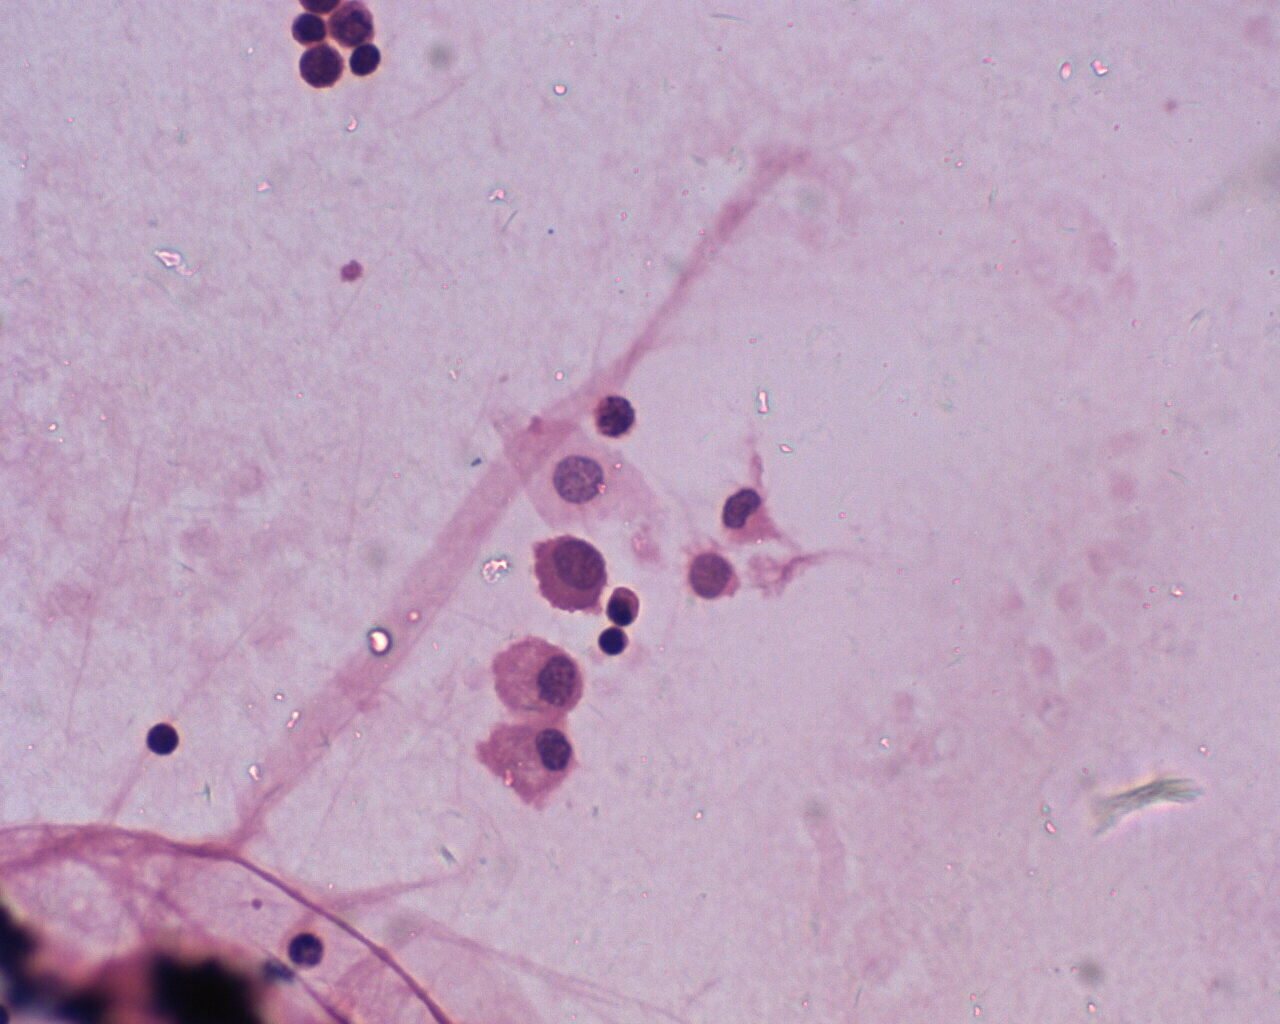ab: (528, 533, 605, 615)
lymph: (141, 719, 185, 759), (587, 626, 626, 660)
meso: (476, 709, 581, 802), (488, 634, 588, 717)
neutro: (287, 927, 327, 970)
